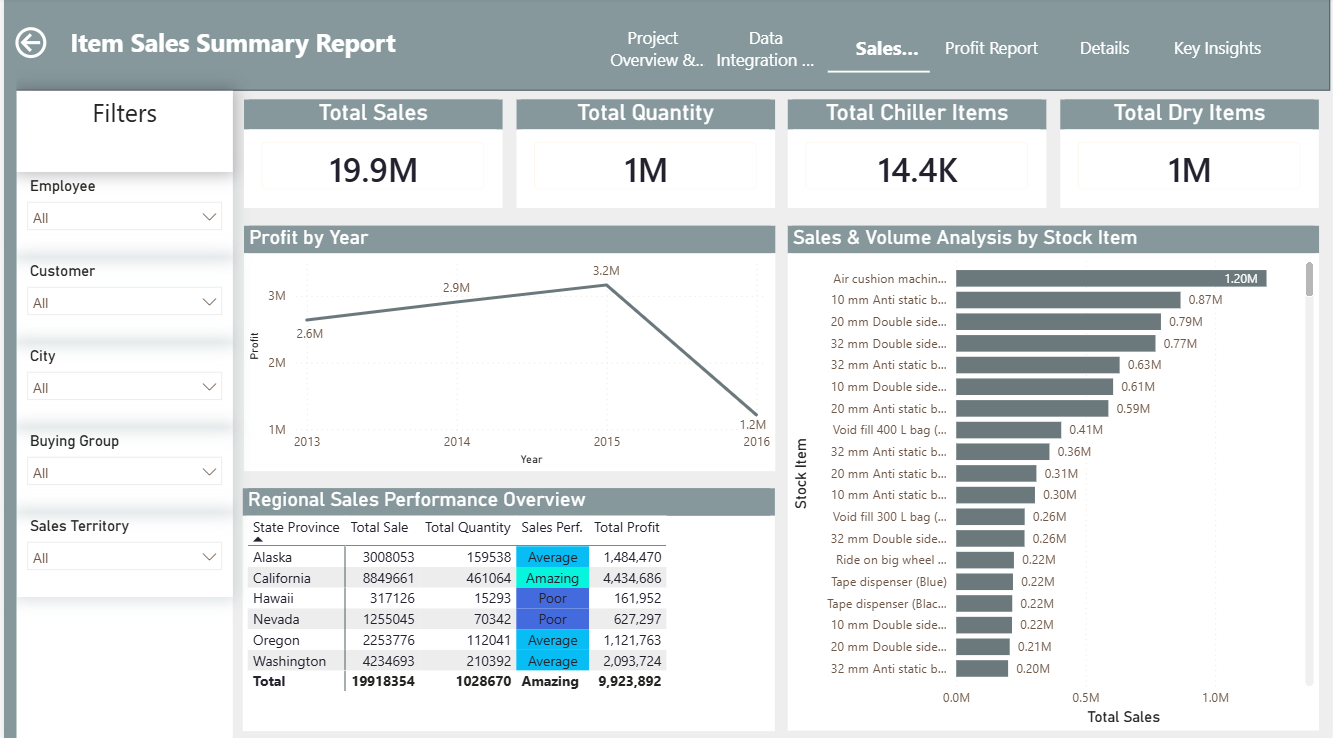

The page's visual inventory and layout, read from the dashboard file:
{"tool":"powerbi","page":{"name":"Sales Report","canvas":[1280,720],"ordinal":2},"visuals":[{"type":"shape","box":[12.1,71.2,208.7,649.1],"z":0},{"type":"shape","box":[0,0,1280,90.5],"z":1000},{"type":"slicer","fields":{"Values":["DimEmployee.Employee"]},"box":[12.5,168.3,208.7,82.1],"z":2000},{"type":"textbox","box":[12.1,90.5,208.7,78.4],"z":3000},{"type":"shape","box":[0,0,12.3,720.4],"z":4000},{"type":"textbox","box":[53.1,22.9,335.4,45.8],"z":5000},{"type":"cardVisual","title":"Total Sales","fields":{"Data":["All Measures.Total Sale with sumx"]},"box":[231.6,98.9,249.7,105],"z":6000},{"type":"cardVisual","title":"Total Quantity","fields":{"Data":["Sum(FactSale.Quantity)"]},"box":[494.2,98.9,249.7,105],"z":7000},{"type":"cardVisual","title":"Total Chiller Items","fields":{"Data":["Sum(FactSale.Total Chiller Items)"]},"box":[756.8,98.9,249.7,105],"z":8000},{"type":"cardVisual","title":"Total Dry Items","fields":{"Data":["Sum(FactSale.Total Dry Items)"]},"box":[1019.4,98.9,249.7,105],"z":9000},{"type":"lineChart","fields":{"Category":["DimDate.Date.Variation.Date Hierarchy.Year","DimDate.Date.Variation.Date Hierarchy.Quarter","DimDate.Date.Variation.Date Hierarchy.Month","DimDate.Date.Variation.Date Hierarchy.Day"],"Y":["Sum(FactSale.Profit)"]},"box":[231.6,220.8,512.7,236.5],"z":10000},{"type":"clusteredBarChart","title":"Sales & Volume Analysis by Stock Item","fields":{"Category":["DimStockItem.Stock Item"],"Y":["Sum(FactSale.Total Excluding Tax)"]},"box":[756.4,220.8,512.7,487.4],"z":11000},{"type":"pivotTable","title":"Regional Sales Performance Overview","fields":{"Rows":["DimCity.State Province"],"Values":["All Measures.Total Sale with sumx","Sum(FactSale.Quantity)","All Measures.Sales Perf.","Sum(FactSale.Profit)"]},"box":[230.4,474.1,513.9,234],"z":12000},{"type":"slicer","fields":{"Values":["DimCustomer.Customer"]},"box":[12.5,250.4,208.7,82.1],"z":13000},{"type":"slicer","fields":{"Values":["DimCity.City"]},"box":[12.5,332.5,208.7,82.1],"z":14000},{"type":"slicer","fields":{"Values":["DimCustomer.Buying Group"]},"box":[12.5,414.6,208.7,82.1],"z":15000},{"type":"slicer","fields":{"Values":["DimCity.Sales Territory"]},"box":[12.1,497.1,208.7,82],"z":16000},{"type":"pageNavigator","box":[576.7,24.1,645.4,49.5],"z":17000},{"type":"actionButton","box":[6,24.1,100.1,39.8],"z":18000}]}

Visuals, with their boxes in screenshot pixels (x1, y1, x2, y2), scaled from the page's 1280x720 canvas onto the 1333x738 screenshot:
shape: x1=13, y1=73, x2=230, y2=737
shape: x1=0, y1=0, x2=1332, y2=93
slicer - DimEmployee.Employee: x1=13, y1=173, x2=230, y2=257
textbox: x1=13, y1=93, x2=230, y2=173
shape: x1=0, y1=0, x2=13, y2=737
textbox: x1=55, y1=23, x2=405, y2=70
"Total Sales" cardVisual: x1=241, y1=101, x2=501, y2=209
"Total Quantity" cardVisual: x1=515, y1=101, x2=775, y2=209
"Total Chiller Items" cardVisual: x1=788, y1=101, x2=1048, y2=209
"Total Dry Items" cardVisual: x1=1062, y1=101, x2=1322, y2=209
lineChart - DimDate.Date.Variation.Date Hierarchy.Year x DimDate.Date.Variation.Date Hierarchy.Quarter: x1=241, y1=226, x2=775, y2=469
"Sales & Volume Analysis by Stock Item" clusteredBarChart: x1=788, y1=226, x2=1322, y2=726
"Regional Sales Performance Overview" pivotTable: x1=240, y1=486, x2=775, y2=726
slicer - DimCustomer.Customer: x1=13, y1=257, x2=230, y2=341
slicer - DimCity.City: x1=13, y1=341, x2=230, y2=425
slicer - DimCustomer.Buying Group: x1=13, y1=425, x2=230, y2=509
slicer - DimCity.Sales Territory: x1=13, y1=510, x2=230, y2=594
pageNavigator: x1=601, y1=25, x2=1273, y2=75
actionButton: x1=6, y1=25, x2=110, y2=65
